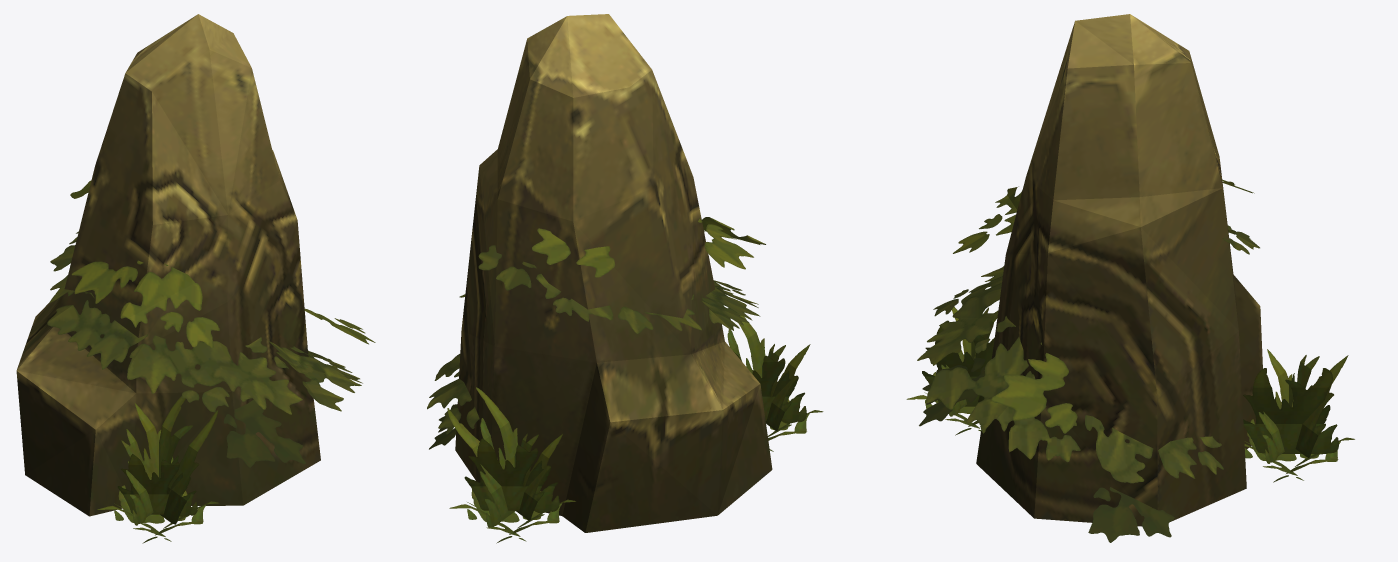
The model's file is esthgraveyard_rocks_04.fbx.
3 renders of one model, left to right at view 1: azimuth 30°, elevation 25°; view 2: azimuth 150°, elevation 25°; view 3: azimuth 270°, elevation 25°, orthographic. The views are drawn at different scales.
Visible parts, largest first — view 1: obj2.014; view 2: obj2.014; view 3: obj2.014.
Boxes of the visible parts, bbox=[...] form: obj2.014: bbox=[16, 14, 375, 543]; obj2.014: bbox=[427, 14, 823, 543]; obj2.014: bbox=[906, 14, 1354, 542].
Size of the model in its own units: 2.59 by 3.4 by 3.3.
